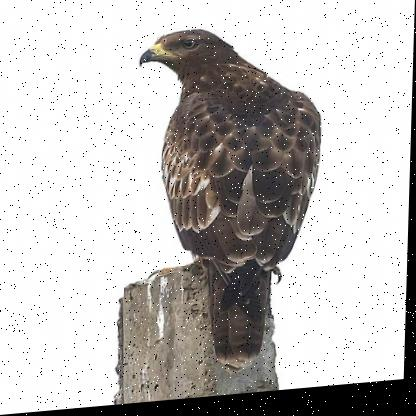Burung: (124, 22, 308, 382)
